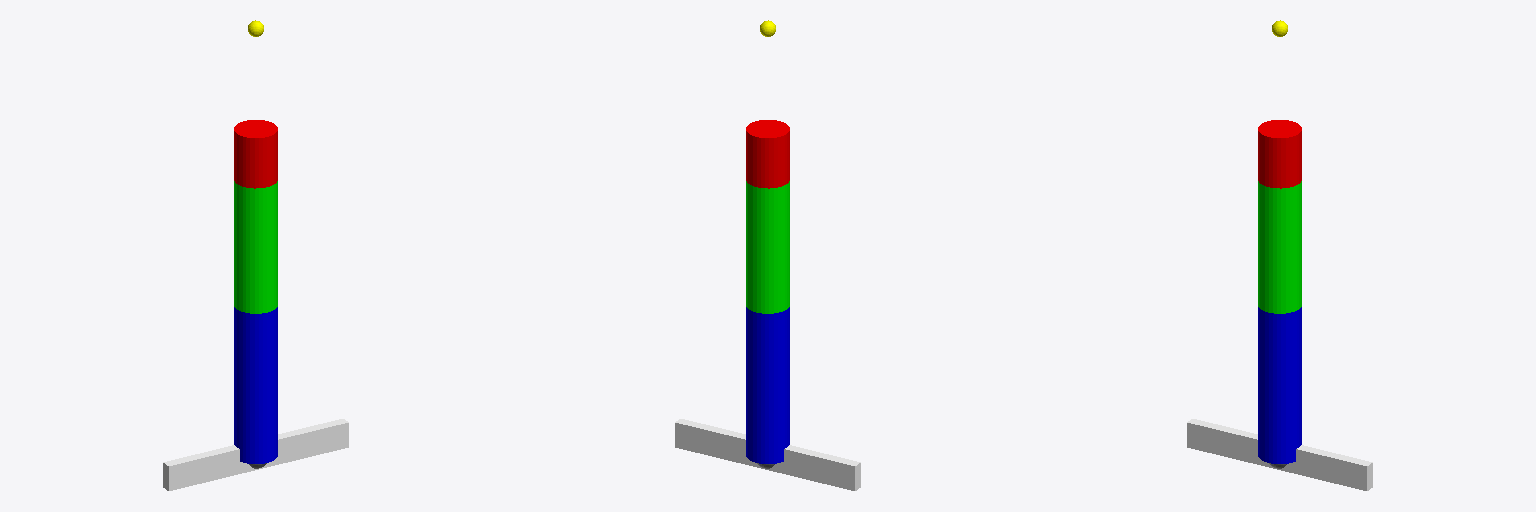
The robot description file, URDF, robot "second_robot":
<?xml version="1.0" ?>
<!-- =================================================================================== -->
<!-- |    This document was autogenerated by xacro from second_robot/description/robot.urdf.xacro | -->
<!-- |    EDITING THIS FILE BY HAND IS NOT RECOMMENDED                                 | -->
<!-- =================================================================================== -->
<robot name="second_robot">
  <material name="white">
    <color rgba="1 1 1 1"/>
  </material>
  <material name="blue">
    <color rgba="0 0 1 1"/>
  </material>
  <material name="green">
    <color rgba="0 1 0 1"/>
  </material>
  <material name="yellow">
    <color rgba="1 1 0 1"/>
  </material>
  <material name="cyan">
    <color rgba="0 1 1 1"/>
  </material>
  <material name="pink">
    <color rgba="1 0.5 0.5 1"/>
  </material>
  <material name="gray">
    <color rgba="0.5 0.5 0.5 1"/>
  </material>
  <material name="purple">
    <color rgba="0.5 0 0.5 1"/>
  </material>
  <material name="black">
    <color rgba="0 0 0 1"/>
  </material>
  <material name="silver">
    <color rgba="0.9137254901960784 0.9137254901960784 0.8470588235294118 1.0"/>
  </material>
  <material name="orange">
    <color rgba="1.0 0.4235294117647059 0.0392156862745098 1.0"/>
  </material>
  <material name="brown">
    <color rgba="0.8705882352941177 0.8117647058823529 0.7647058823529411 1.0"/>
  </material>
  <material name="red">
    <color rgba="0.8 0.0 0.0 1.0"/>
  </material>
  <!-- Base Link -->
  <link name="base_link">
    <visual name="base_link_visual">
      <origin rpy="0 0 0" xyz="0 0 0"/>
      <geometry>
        <box size="0.3762 0.02 0.05"/>
      </geometry>
      <material name="white"/>
    </visual>
    <inertial>
      <origin xyz="0 0 0"/>
      <mass value="2.2"/>
      <inertia ixx="0.001" ixy="0" ixz="0" iyy="0.001" iyz="0" izz="0.001"/>
    </inertial>
    <collision name="base_collision">
      <origin rpy="0 0 0" xyz="0 0 0"/>
      <geometry>
        <box size="0.3762 0.02 0.05"/>
      </geometry>
    </collision>
  </link>
  <!-- Base to Shoulder Joint -->
  <joint name="base_to_shoulder_joint" type="fixed">
    <parent link="base_link"/>
    <child link="shoulder_link"/>
    <origin rpy="0 0 0" xyz="0 0 0"/>
    <limit effort="5.0" lower="-2.0" upper="2.0" velocity="1.0"/>
  </joint>
  <!-- Shoulder Link -->
  <link name="shoulder_link">
    <visual>
      <geometry>
        <sphere radius="0.025"/>
      </geometry>
      <origin rpy="0 0 0" xyz="0 0 0"/>
      <material name="gray"/>
    </visual>
    <collision>
      <geometry>
        <sphere radius="0.025"/>
      </geometry>
      <origin rpy="0 0 0" xyz="0 0 0"/>
    </collision>
    <inertial>
      <origin xyz="0 0 0"/>
      <mass value="0.2"/>
      <inertia ixx="0.00005" ixy="0" ixz="0" iyy="0.00005" iyz="0" izz="0.00005"/>
    </inertial>
  </link>
  <!-- Shoulder Joint -->
  <joint name="shoulder_joint" type="revolute">
    <parent link="shoulder_link"/>
    <child link="upper_arm_link"/>
    <origin rpy="0 0 0.785" xyz="0 0 0"/>
    <axis xyz="0 1 0"/>
    <limit effort="1.0" lower="-3.14" upper="3.14" velocity="2.0"/>
  </joint>
  <!-- Upper Arm Link -->
  <link name="upper_arm_link">
    <visual>
      <geometry>
        <cylinder length="0.3" radius="0.04"/>
      </geometry>
      <origin rpy="0 0 0" xyz="0 0 0.15"/>
      <material name="blue">
        <color rgba="0 0 1 1"/>
      </material>
    </visual>
    <collision>
      <geometry>
        <cylinder length="0.3" radius="0.04"/>
      </geometry>
      <origin rpy="0 0 0" xyz="0 0 0.15"/>
    </collision>
    <inertial>
      <origin rpy="0 0 0" xyz="0 0 0.15"/>
      <mass value="0.15"/>
      <inertia ixx="0.00012" ixy="0" ixz="0" iyy="0.00012" iyz="0" izz="0.00002"/>
    </inertial>
  </link>
  <!-- Elbow Joint -->
  <joint name="elbow_joint" type="revolute">
    <parent link="upper_arm_link"/>
    <child link="forearm_link"/>
    <origin rpy="0 0 1.57" xyz="0 0 0.3"/>
    <axis xyz="0 1 0"/>
    <limit effort="1.0" lower="-3.14" upper="3.14" velocity="2.0"/>
  </joint>
  <!-- Forearm Link -->
  <link name="forearm_link">
    <visual>
      <geometry>
        <cylinder length="0.25" radius="0.04"/>
      </geometry>
      <origin rpy="0 0 0" xyz="0 0 0.125"/>
      <material name="green">
        <color rgba="0 1 0 1"/>
      </material>
    </visual>
    <collision>
      <geometry>
        <cylinder length="0.25" radius="0.04"/>
      </geometry>
      <origin rpy="0 0 0" xyz="0 0 0.125"/>
    </collision>
    <inertial>
      <origin rpy="0 0 0" xyz="0 0 0.125"/>
      <mass value="0.12"/>
      <inertia ixx="0.00010" ixy="0" ixz="0" iyy="0.00010" iyz="0" izz="0.000015"/>
    </inertial>
  </link>
  <!-- Wrist Joint -->
  <joint name="wrist_joint" type="revolute">
    <parent link="forearm_link"/>
    <child link="wrist_link"/>
    <origin rpy="0 0 0" xyz="0 0 0.25"/>
    <axis xyz="0 1 0"/>
    <limit effort="1.0" lower="-3.14" upper="3.14" velocity="2.0"/>
  </joint>
  <!-- Wrist Link -->
  <link name="wrist_link">
    <visual>
      <geometry>
        <cylinder length="0.1" radius="0.04"/>
      </geometry>
      <origin rpy="0 0 0" xyz="0 0 0.05"/>
      <material name="red">
        <color rgba="1 0 0 1"/>
      </material>
    </visual>
    <collision>
      <geometry>
        <cylinder length="0.1" radius="0.04"/>
      </geometry>
      <origin rpy="0 0 0" xyz="0 0 0.05"/>
    </collision>
    <inertial>
      <origin rpy="0 0 0" xyz="0 0 0.05"/>
      <mass value="0.08"/>
      <inertia ixx="0.00007" ixy="0" ixz="0" iyy="0.00007" iyz="0" izz="0.00001"/>
    </inertial>
  </link>
  <!-- End Effector -->
  <link name="end_effector_link">
    <visual>
      <geometry>
        <sphere radius="0.015"/>
      </geometry>
      <origin rpy="0 0 0" xyz="0 0 0"/>
      <material name="yellow">
        <color rgba="1 1 0 1"/>
      </material>
    </visual>
    <collision>
      <geometry>
        <sphere radius="0.015"/>
      </geometry>
      <origin rpy="0 0 0" xyz="0 0 0"/>
    </collision>
    <inertial>
      <origin xyz="0 0 0"/>
      <mass value="0.02"/>
      <inertia ixx="0.00001" ixy="0" ixz="0" iyy="0.00001" iyz="0" izz="0.00001"/>
    </inertial>
  </link>
  <!-- End Effector Joint -->
  <joint name="ee_fixed_joint" type="fixed">
    <parent link="wrist_link"/>
    <child link="end_effector_link"/>
    <origin rpy="0 0 0" xyz="0 0 0.3"/>
  </joint>
  <transmission name="trans_shoulder">
    <type>transmission_interface/SimpleTransmission</type>
    <joint name="shoulder_joint">
      <hardwareInterface>hardware_interface/PositionJointInterface</hardwareInterface>
    </joint>
    <actuator name="shoulder_motor">
      <hardwareInterface>hardware_interface/PositionJointInterface</hardwareInterface>
      <mechanicalReduction>1</mechanicalReduction>
    </actuator>
  </transmission>
  <transmission name="trans_elbow">
    <type>transmission_interface/SimpleTransmission</type>
    <joint name="elbow_joint">
      <hardwareInterface>hardware_interface/PositionJointInterface</hardwareInterface>
    </joint>
    <actuator name="elbow_motor">
      <hardwareInterface>hardware_interface/PositionJointInterface</hardwareInterface>
      <mechanicalReduction>1</mechanicalReduction>
    </actuator>
  </transmission>
  <transmission name="trans_wrist">
    <type>transmission_interface/SimpleTransmission</type>
    <joint name="wrist_joint">
      <hardwareInterface>hardware_interface/PositionJointInterface</hardwareInterface>
    </joint>
    <actuator name="wrist_motor">
      <hardwareInterface>hardware_interface/PositionJointInterface</hardwareInterface>
      <mechanicalReduction>1</mechanicalReduction>
    </actuator>
  </transmission>
  <gazebo>

  </gazebo>
  <ros2_control name="SecondRobot" type="system">
    <hardware>
      <plugin>gz_ros2_control/GazeboSimSystem</plugin>
      <!-- <plugin>mock_components/GenericSystem</plugin> -->
      <!-- <plugin>gazebo_ros2_control/GazeboSystem</plugin> -->
    </hardware>
    <joint name="shoulder_joint">
      <command_interface name="position">
        <param name="min">-1</param>
        <param name="max">1</param>
      </command_interface>
      <state_interface name="position"/>
      <state_interface name="velocity"/>
    </joint>
    <joint name="elbow_joint">
      <command_interface name="position">
        <param name="min">-1</param>
        <param name="max">1</param>
      </command_interface>
      <state_interface name="position"/>
      <state_interface name="velocity"/>
    </joint>
    <joint name="wrist_joint">
      <command_interface name="position">
        <param name="min">-1</param>
        <param name="max">1</param>
      </command_interface>
      <state_interface name="position"/>
      <state_interface name="velocity"/>
    </joint>
  </ros2_control>
  <gazebo>
    <plugin filename="gz_ros2_control-system" name="gz_ros2_control::GazeboSimROS2ControlPlugin">
      <parameters>/home/phieu/ros2-learning/src/install/second_robot/share/second_robot/config/ros_control.yaml</parameters>
      <robot_param_node>robot_state_publisher</robot_param_node>
    </plugin>
  </gazebo>
</robot>

--- Facts derived from the render (not from the file) ---
3 views of the same robot in one strip: view 1: azimuth 30°, elevation 25°; view 2: azimuth 150°, elevation 25°; view 3: azimuth 330°, elevation 25° (orthographic).
Model second_robot with 6 links and 5 joints (3 revolute, 2 fixed), rooted at base_link, posed all joints at 0.
Links seen in each view (by area): view 1: upper_arm_link, forearm_link, base_link, wrist_link; view 2: upper_arm_link, forearm_link, base_link, wrist_link; view 3: upper_arm_link, forearm_link, base_link, wrist_link.
Boxes of the visible links, box(x1,y1,x2,y2) form: upper_arm_link: box(234, 307, 277, 463); forearm_link: box(234, 181, 277, 313); base_link: box(163, 419, 348, 490); wrist_link: box(234, 120, 277, 188); upper_arm_link: box(746, 307, 789, 463); forearm_link: box(746, 181, 789, 313); base_link: box(675, 419, 860, 490); wrist_link: box(746, 120, 789, 188); upper_arm_link: box(1258, 307, 1301, 463); forearm_link: box(1258, 181, 1301, 313); base_link: box(1187, 419, 1372, 490); wrist_link: box(1258, 120, 1301, 188).
Bounding box of the posed robot: 0.3762 × 0.08 × 0.89 m (x, y, z).
Geometry: primitives only (box / cylinder / sphere), no mesh files.
